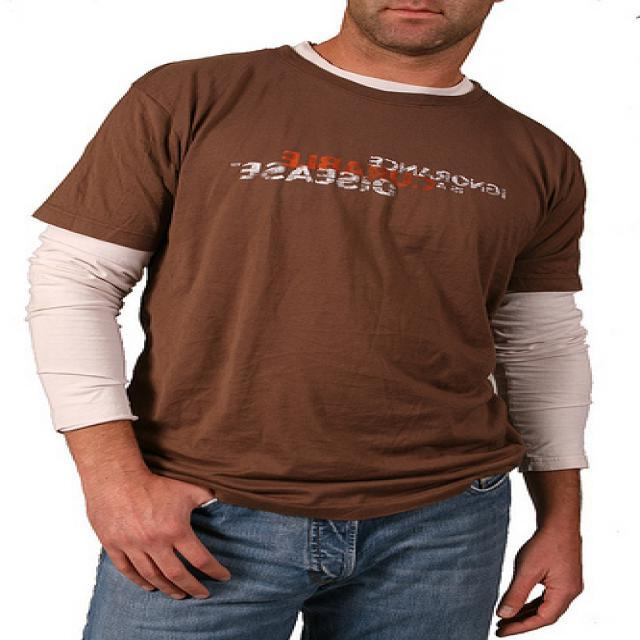long sleeve shirt: (25, 40, 596, 475)
short sleeve shirt: (35, 44, 586, 523)
trousers: (78, 463, 513, 640)
